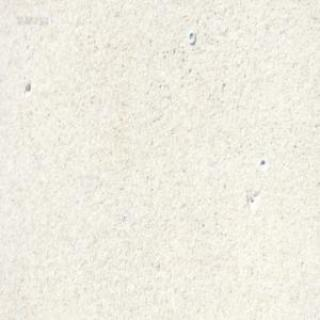Washertrack_idkeyframe: (187, 29, 194, 44)
